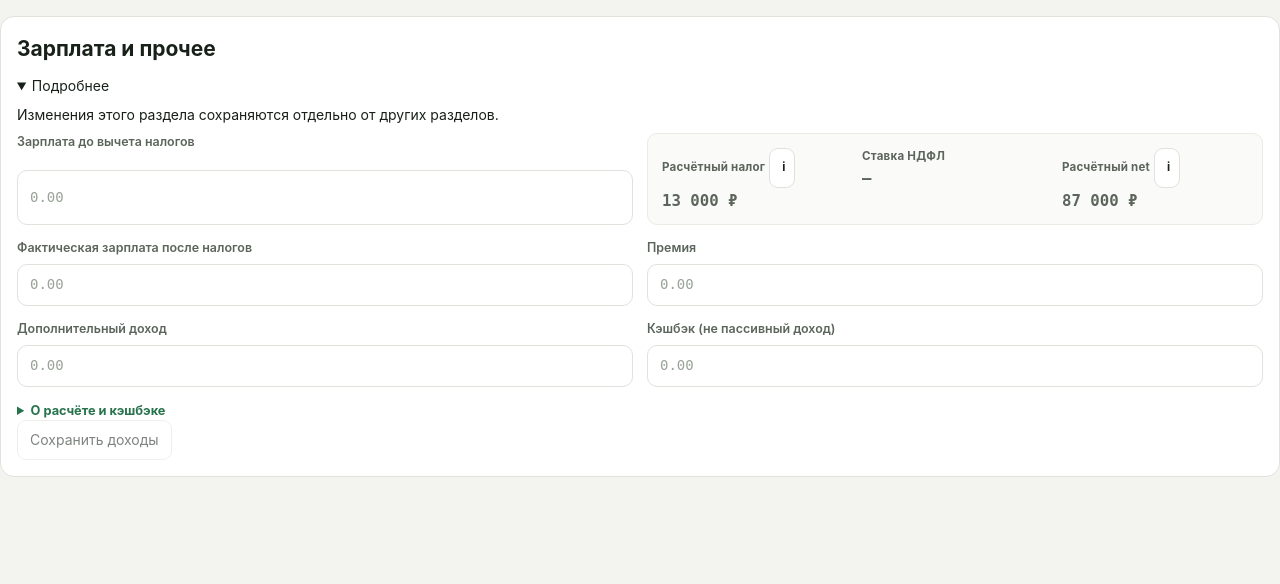
Test: native month editor income leaf › reports the canonical closed-month conflict without a false success
expect the field labelled "Зарплата до вычета налогов" is shown: met, box [17,170,633,225]
Type "5000" into the field labelled "Премия".
click(955, 285); type("5000")  # box [647,264,1263,306]
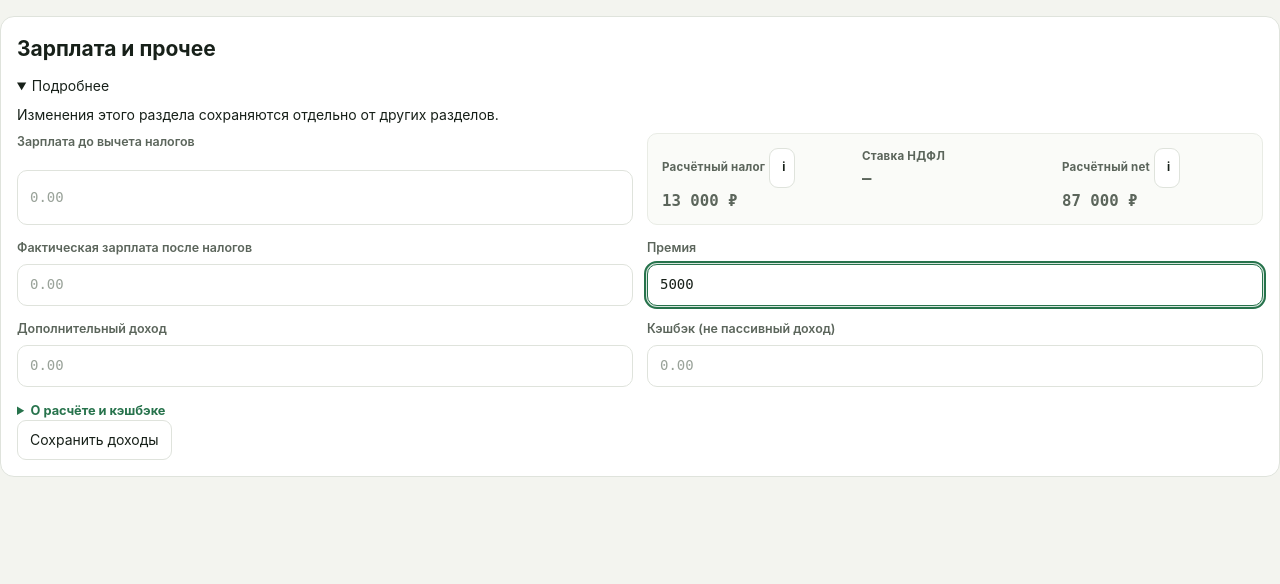
Click the button "Сохранить доходы".
click(94, 440)  # box [17,420,172,460]
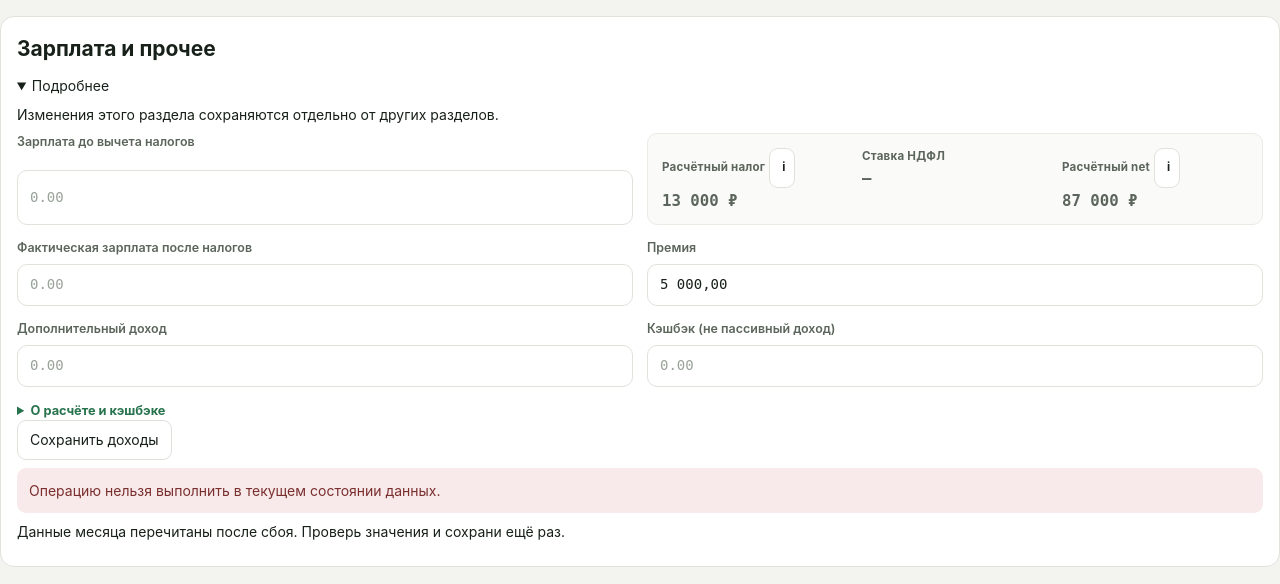
expect the message "Операцию нельзя выполнить в текущем состоянии данных." is shown: met, box [17,468,1263,513]
